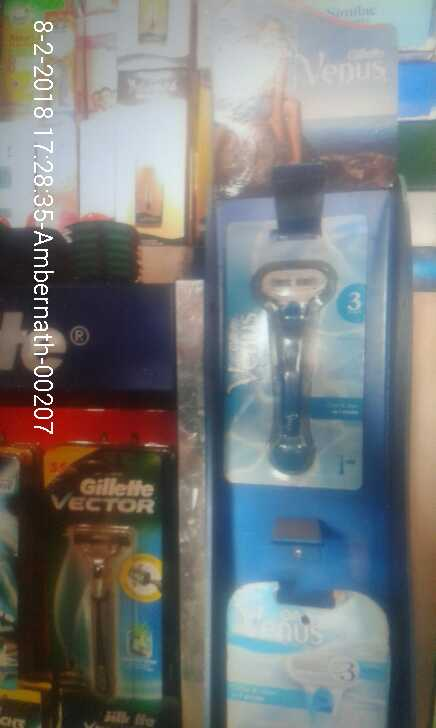beauty: (229, 226, 364, 497), (47, 456, 167, 702), (229, 585, 395, 724)
